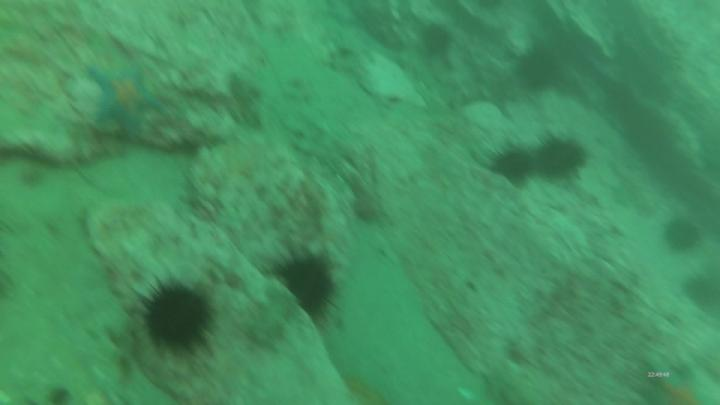echinus: (130, 272, 213, 359), (275, 250, 341, 325), (536, 132, 590, 181), (487, 138, 537, 188), (520, 45, 562, 98), (662, 212, 704, 258), (419, 21, 459, 63), (684, 273, 720, 313), (476, 1, 506, 14)
starfish: (79, 57, 172, 144), (632, 356, 720, 405)
